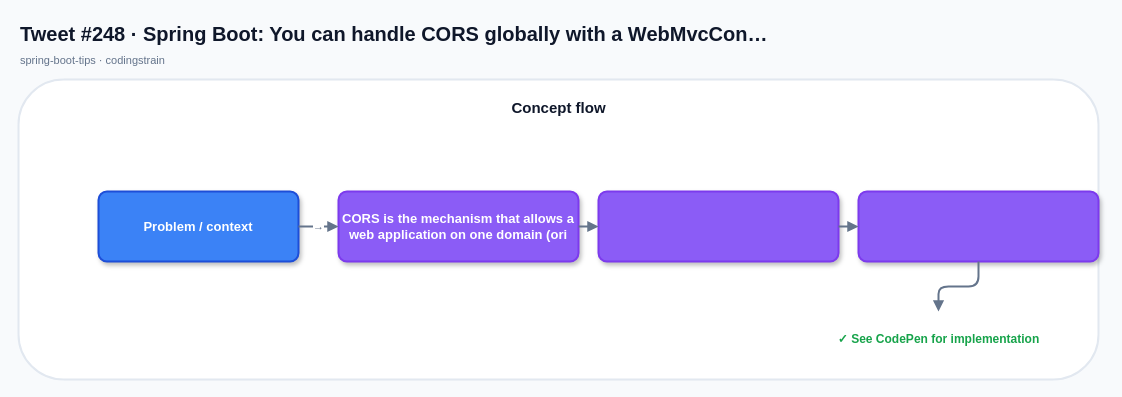
The diagram is 1122 pixels wide and 397 high, and some of its shapes have lost their labels. Here are the shapes that lost their labels. From the top down, the centre of each, then its label:
At (719,227): "#SpringBoot #SoftwareDevelopment".
At (979,227): "Runnable sample: `spring-boot-tips`".
